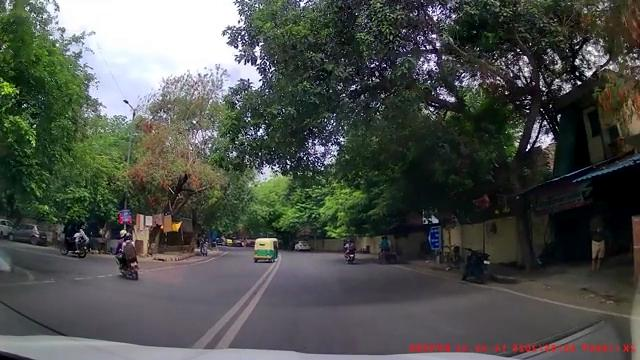motorcycle_with_helmet: (115, 229, 141, 281)
